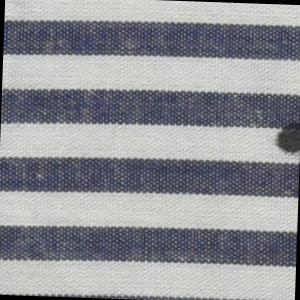Stain: (275, 117, 300, 157)
